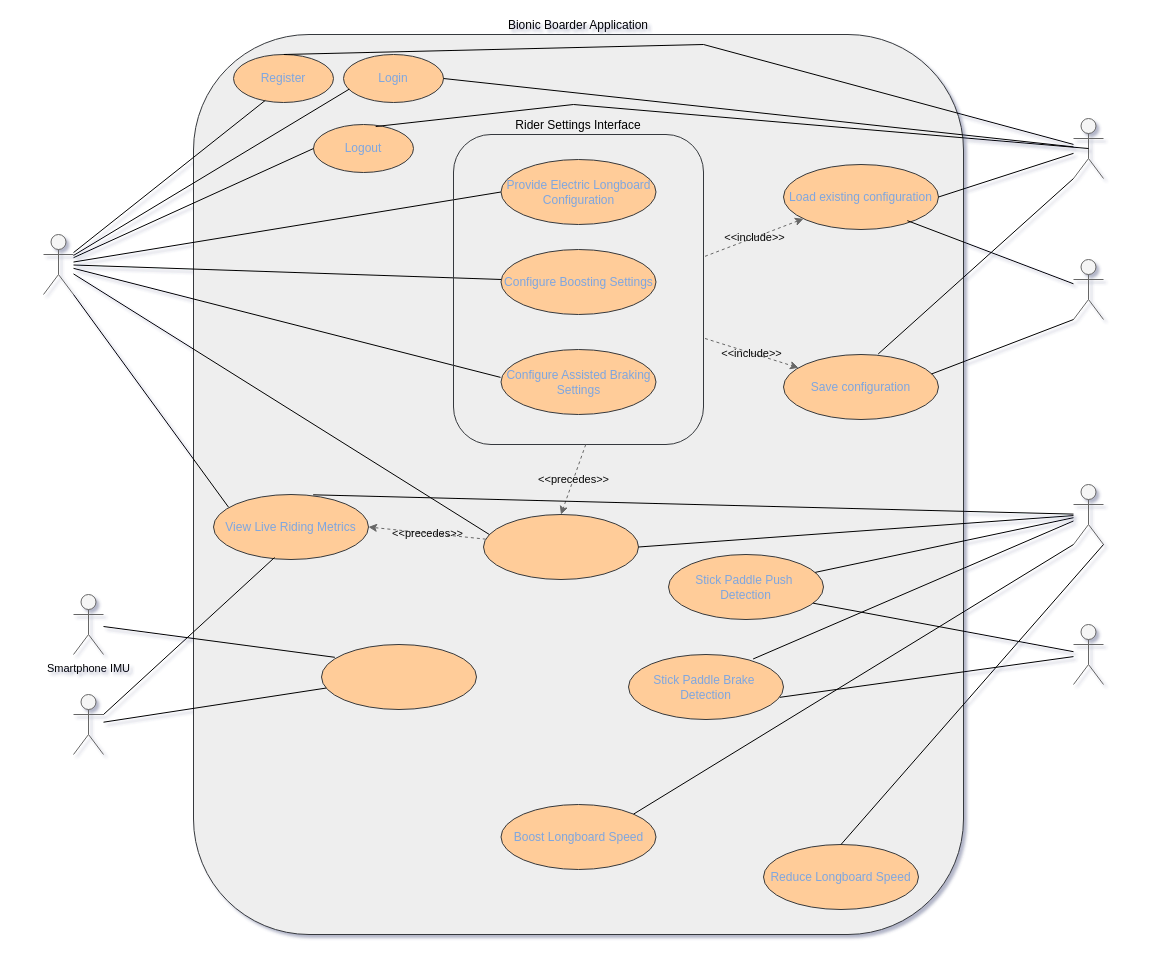
Image size: 1162x958. Some labels were removed from this diagram. Here are the shapes that lost their labels. From the top down, the centre of each, then its label:
At point 1088,148: "Cloud".
At point 58,264: "Longboard Rider".
At point 1088,289: "Smartphone Storage".
At point 1088,514: "Longboard VESC".
At point 560,547: "Connect to Longboard VESC".
At point 1088,654: "Longboard IMU".
At point 398,677: "Rider Fall Detection".
At point 88,724: "Smartphone GPS".
